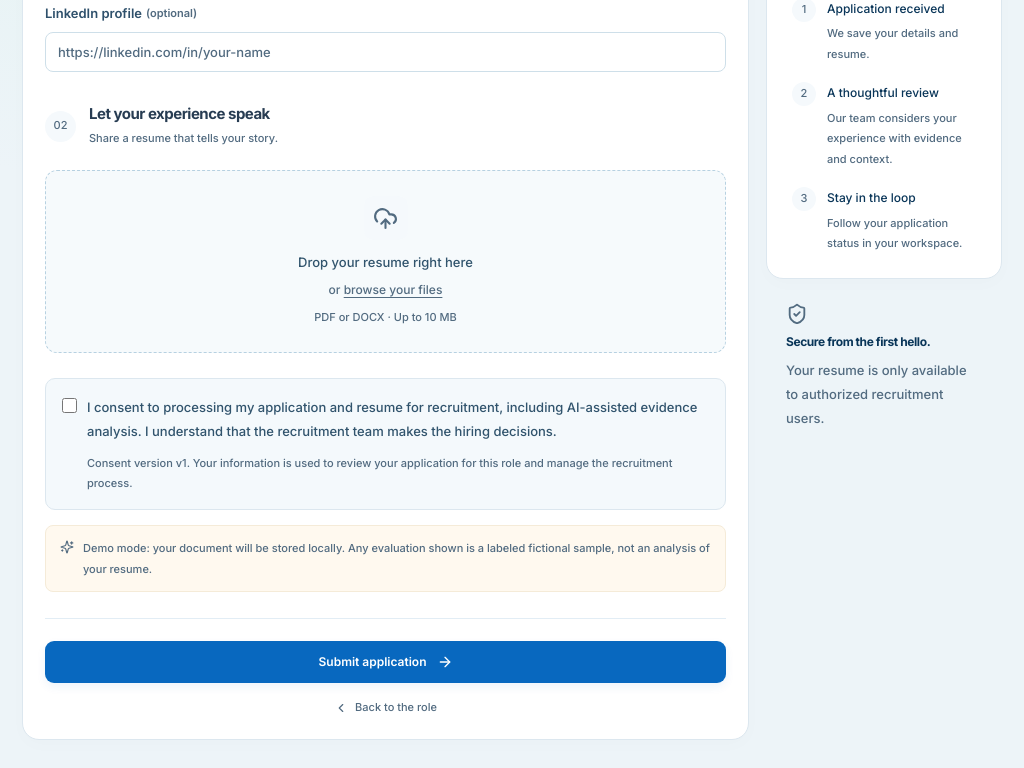
Scenario: candidate application submission › requires a resume even after consent is accepted
(page scrolled)
Click the checkbox at (70, 405), box [62,398,77,413]
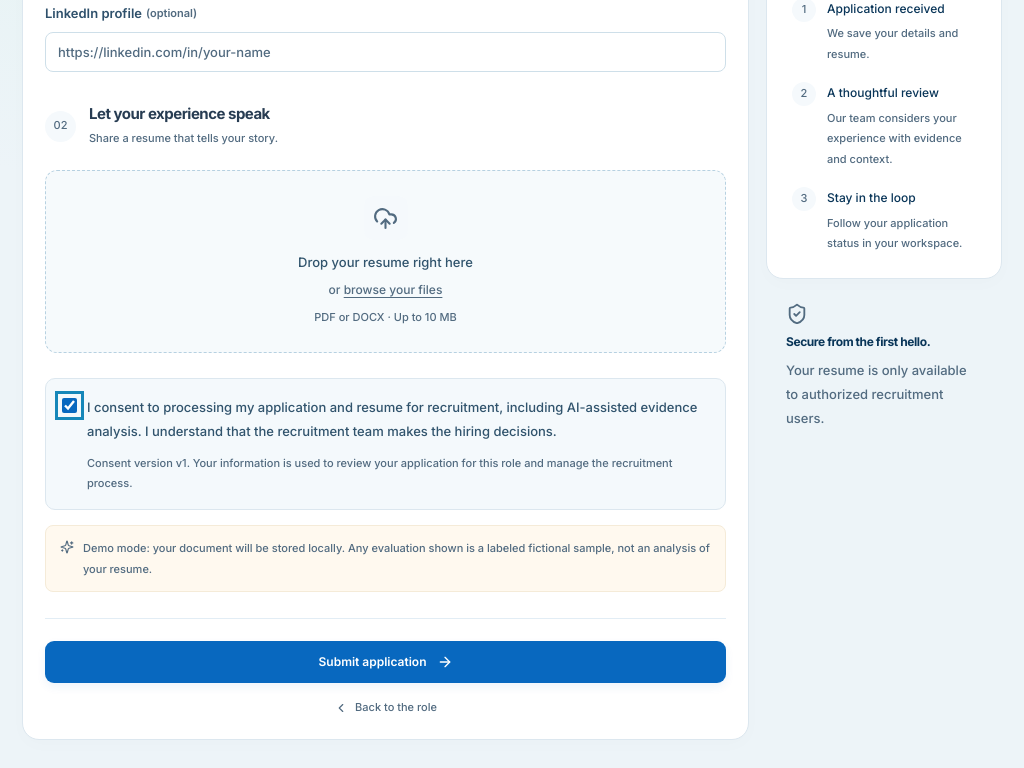
Click the button "Submit application" at (386, 662), box [45,641,726,683]
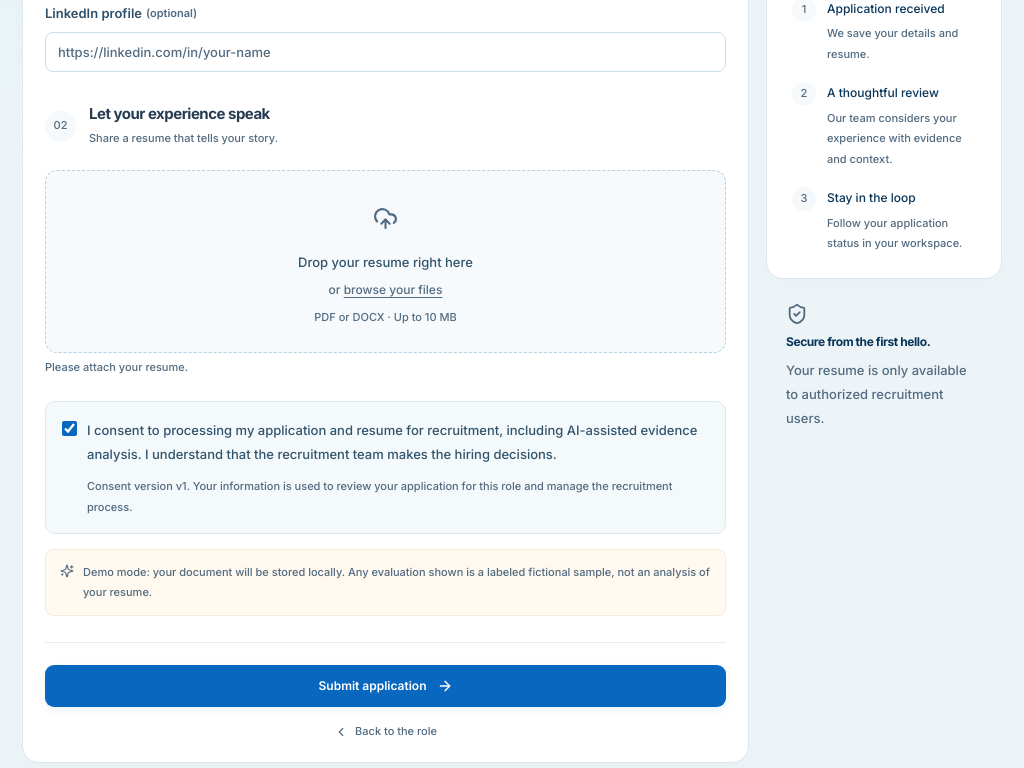
Check: the message reads "Please attach your resume.", box [45,360,188,374]
